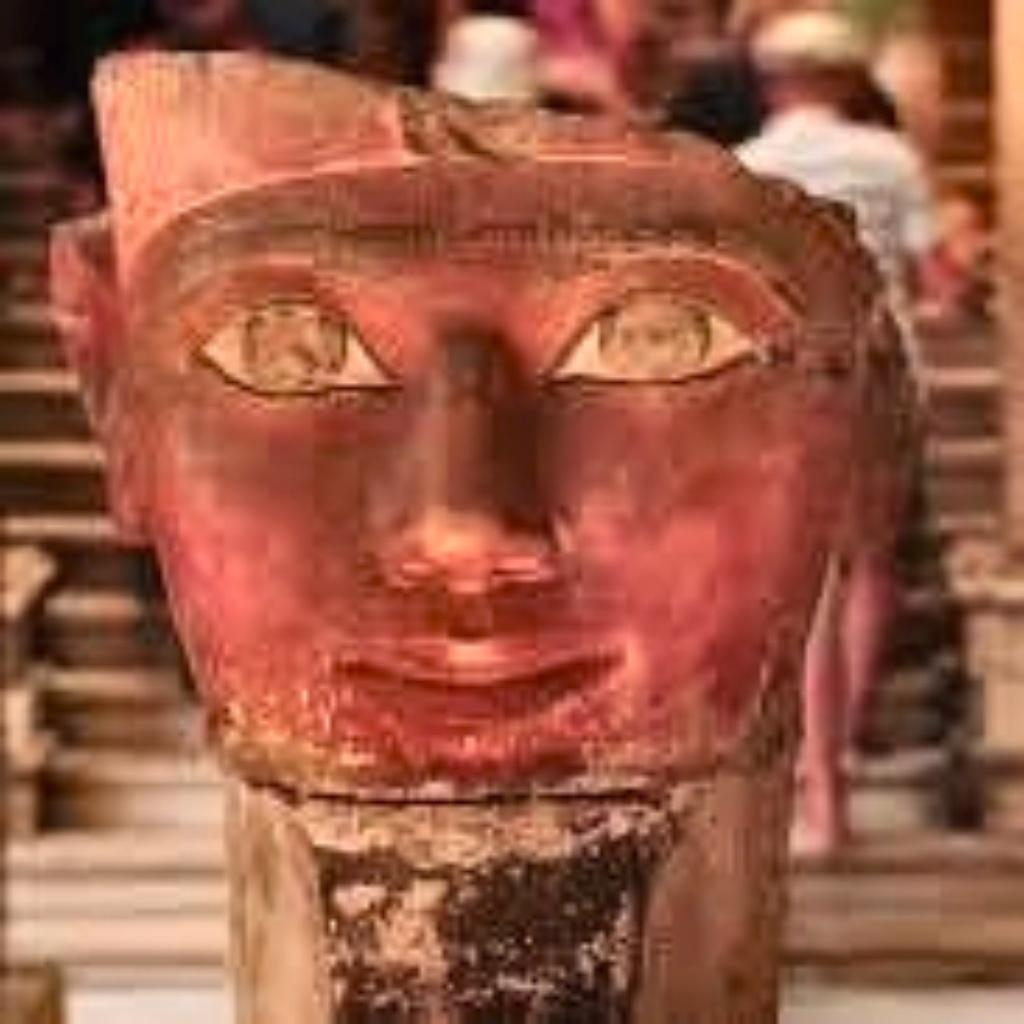Hatshepsut face: (44, 40, 918, 1024)
